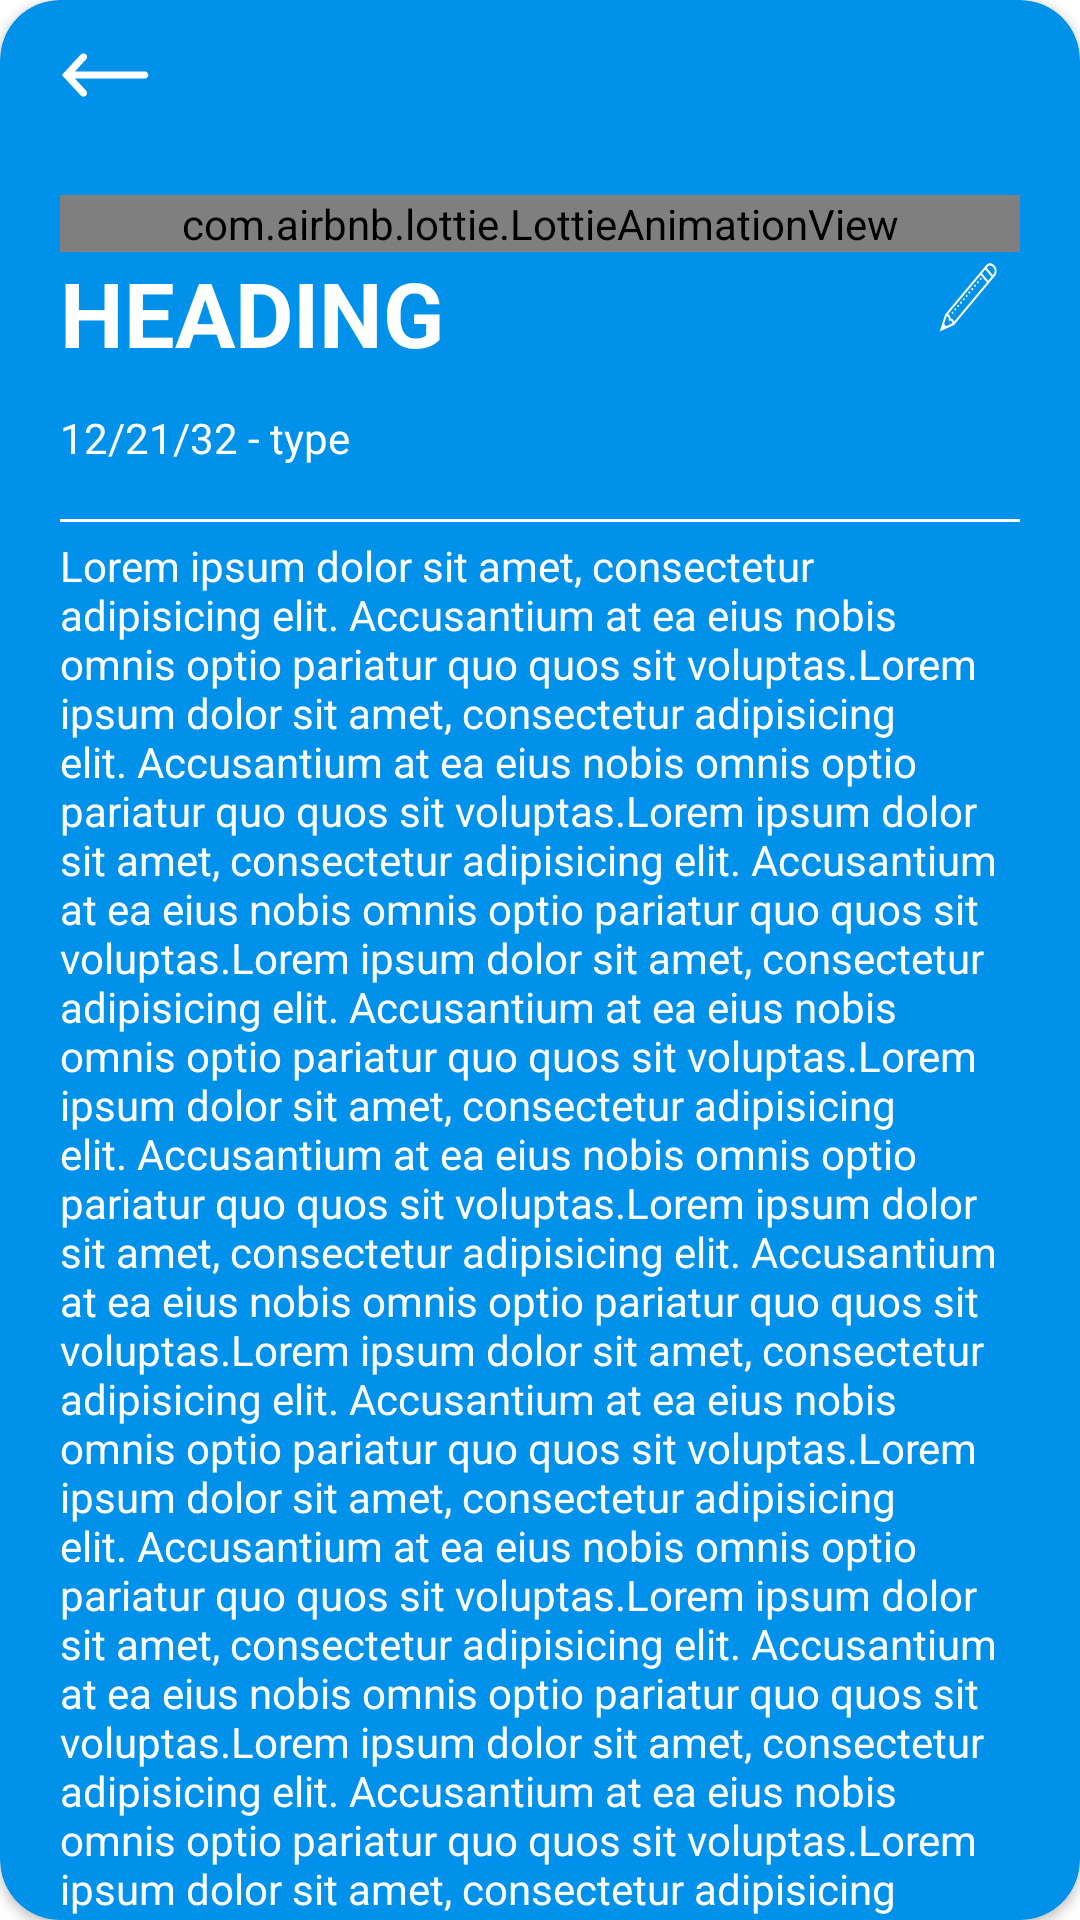

Icon bounding boxes for this 1080px x 1920px phone screenshot, format [x1=x1, y1=y1, x2=x2, y2=y2]:
edit: [x1=939, y1=263, x2=997, y2=332]
left arrow: [x1=62, y1=53, x2=149, y2=97]
